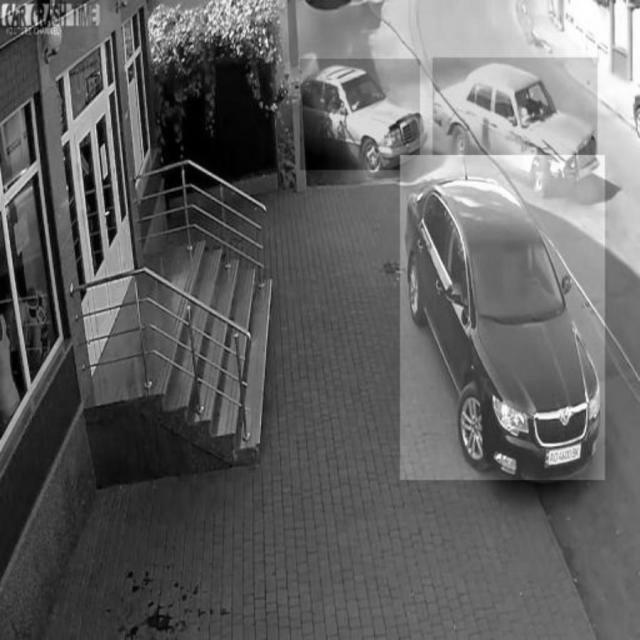vehicle: (401, 155, 606, 480), (433, 57, 598, 183), (300, 59, 420, 170)
